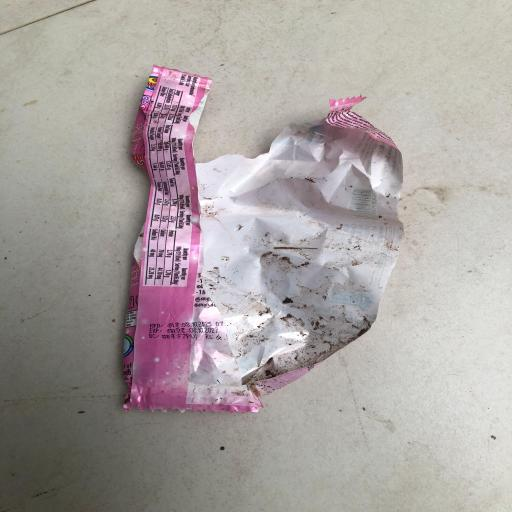waste: (118, 54, 418, 430)
